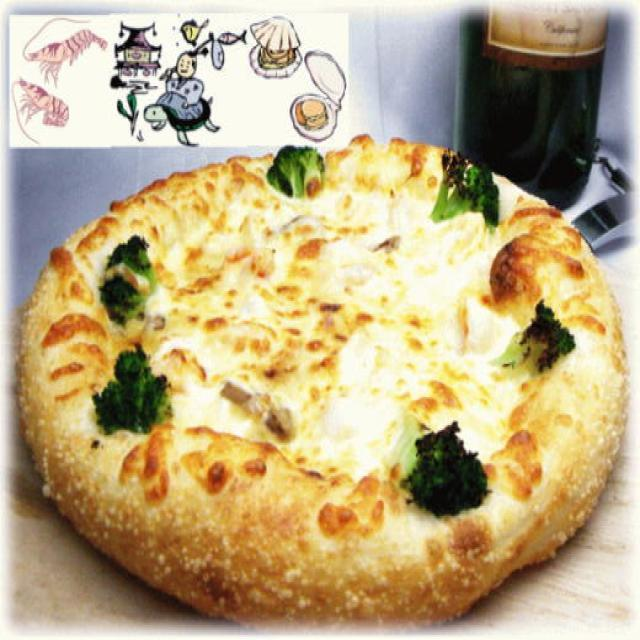Pizza: (9, 116, 640, 640)
